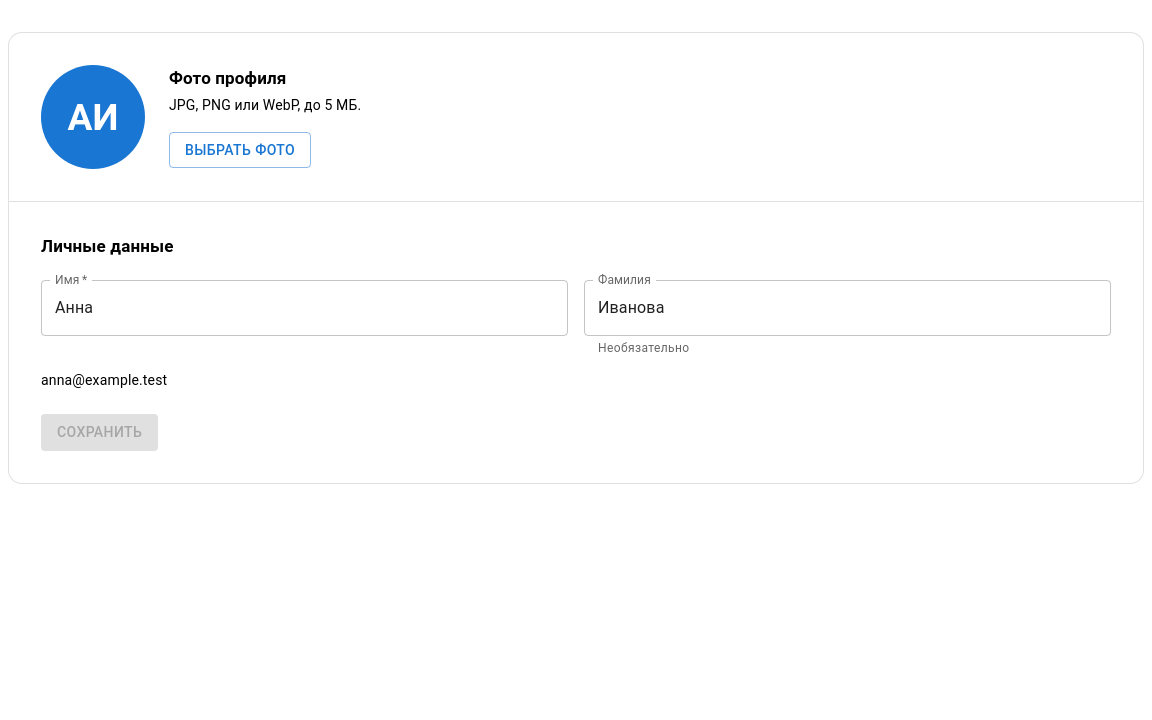
Test: profile editing › saves separate trimmed fields and refreshes the account menus
This screenshot has width=1152, height=720.
Check: the button "Сохранить" is disabled, box [41, 414, 158, 451]
Replace the text in the field labelled "Фамилия" with " Петрова " at x=848, y=308, box [584, 280, 1111, 336]
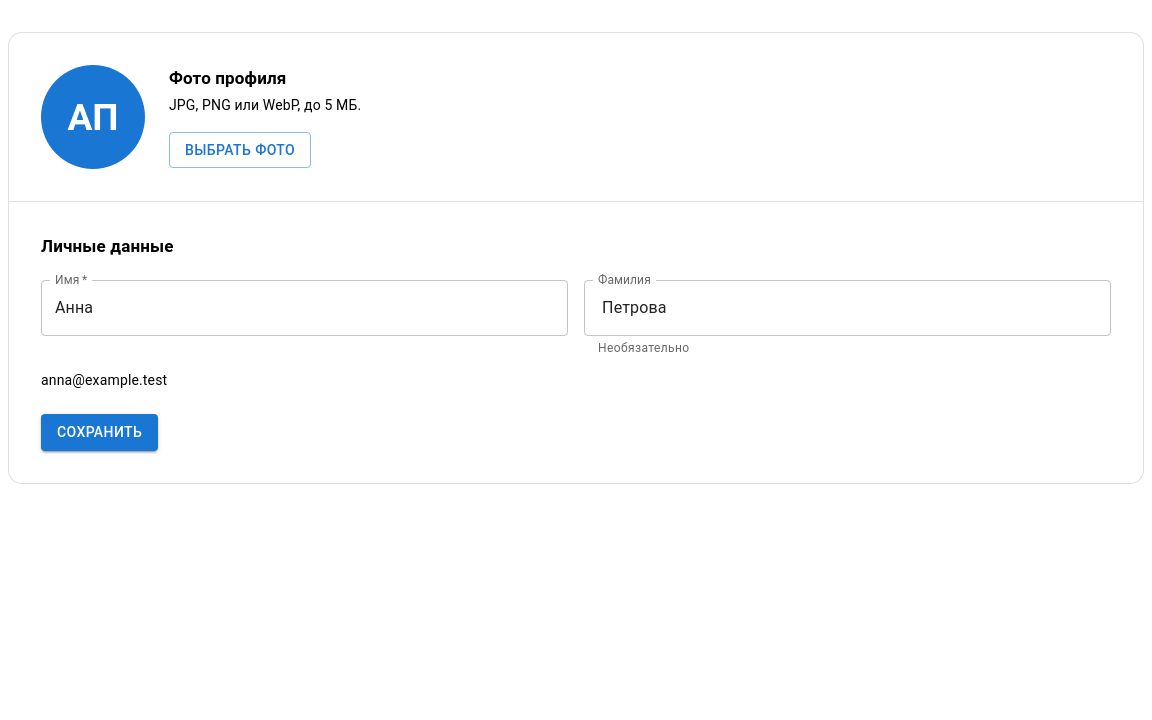
Click the button "Сохранить" at x=100, y=433, box [41, 414, 158, 451]
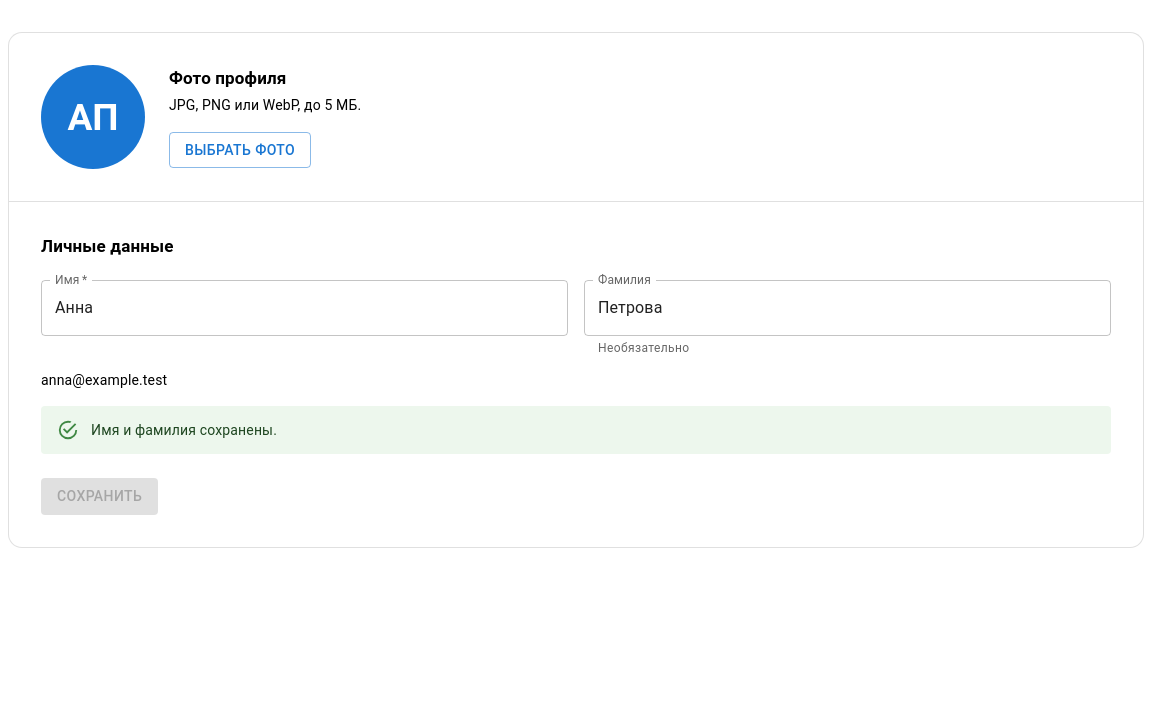
Check: the text "Имя и фамилия сохранены." is shown, box [91, 422, 277, 438]
